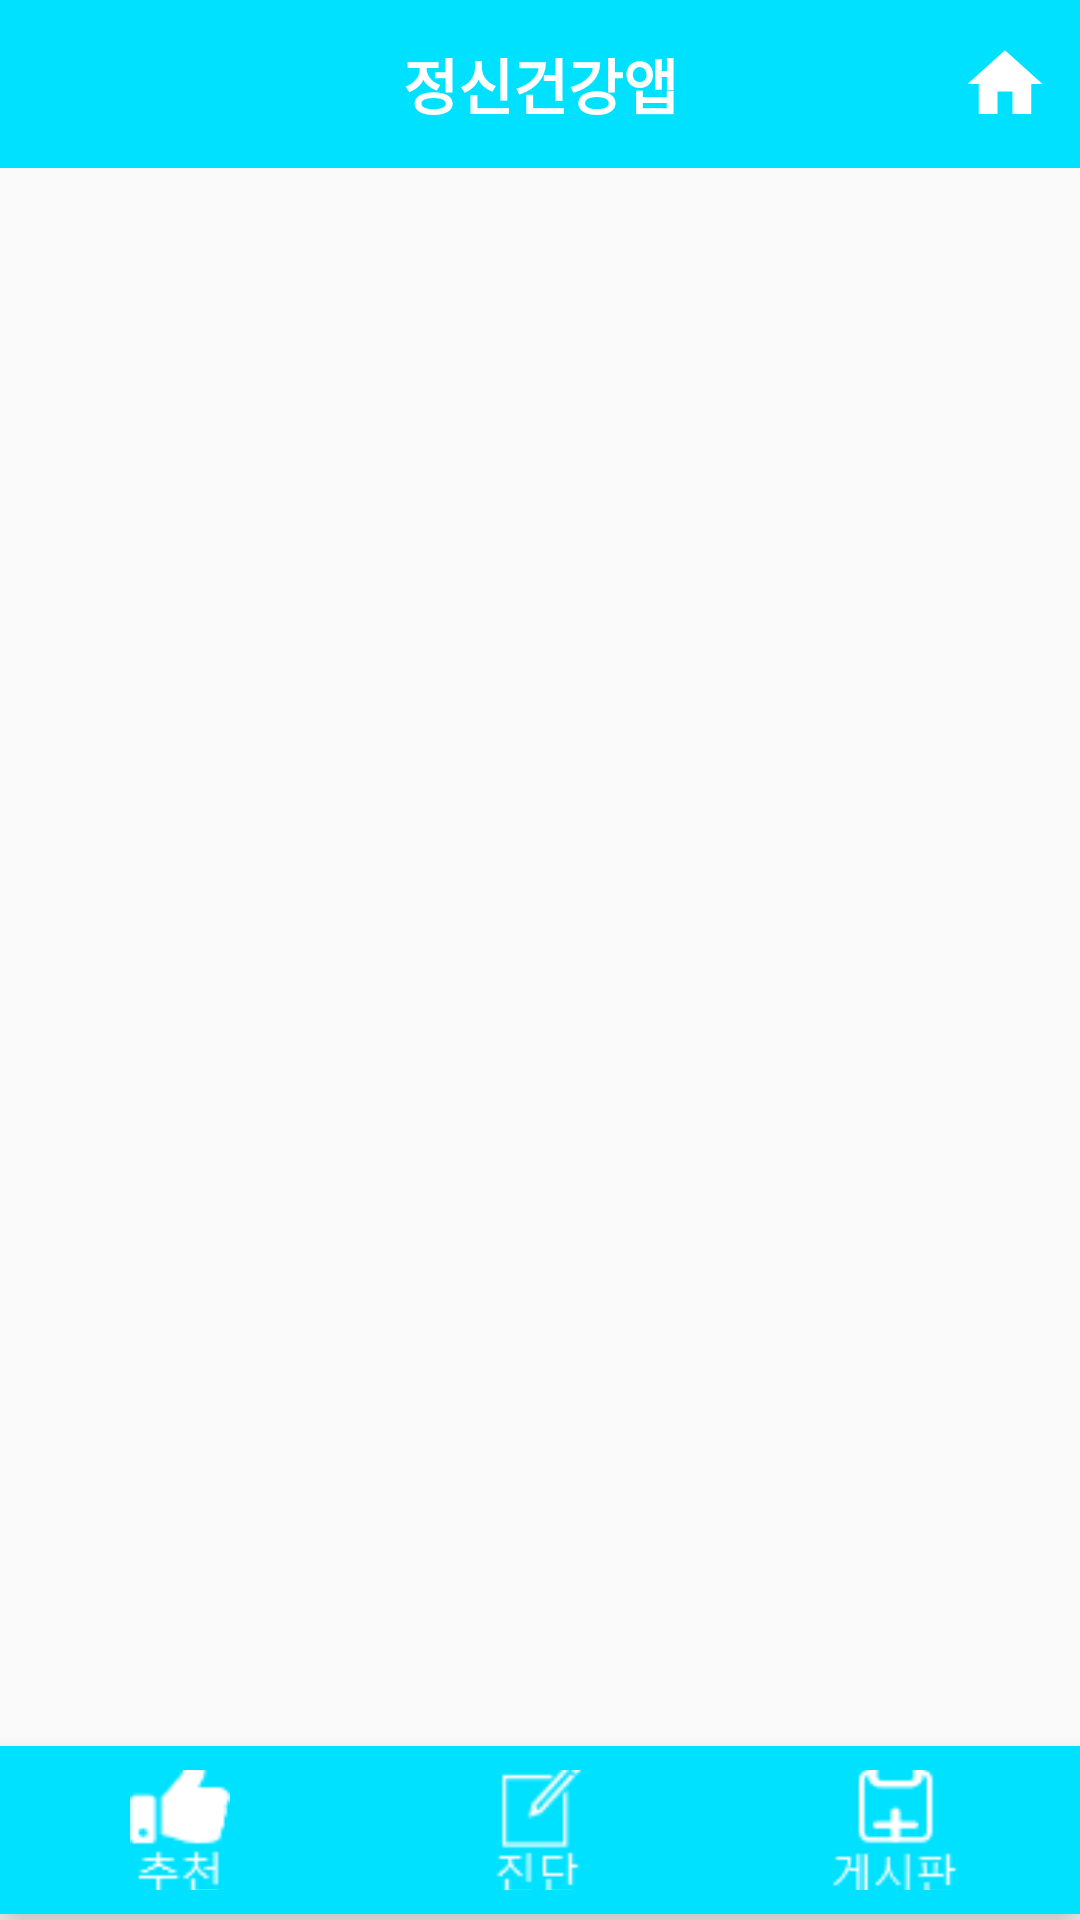

Icons on this 1080px x 1920px Android screen, each with the point to tap as (x,y):
home: (1005,82)
